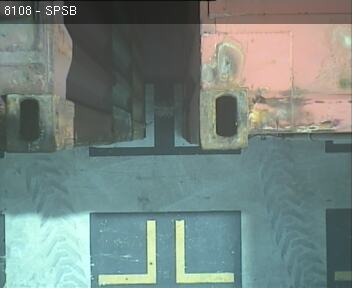groundmarker_1: (98, 220, 233, 284)
